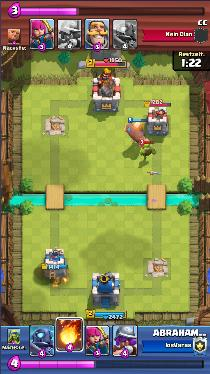ally_giant: (122, 121, 148, 145)
ally_goblin_cage: (139, 145, 157, 157)
